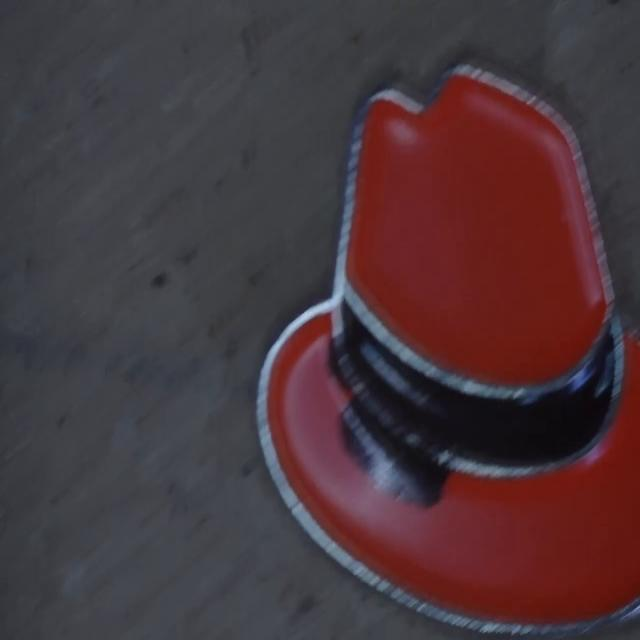Hatband: (331, 282, 624, 478)
Paint_Leak: (341, 400, 448, 507)
RedHatPin: (258, 67, 640, 632)
